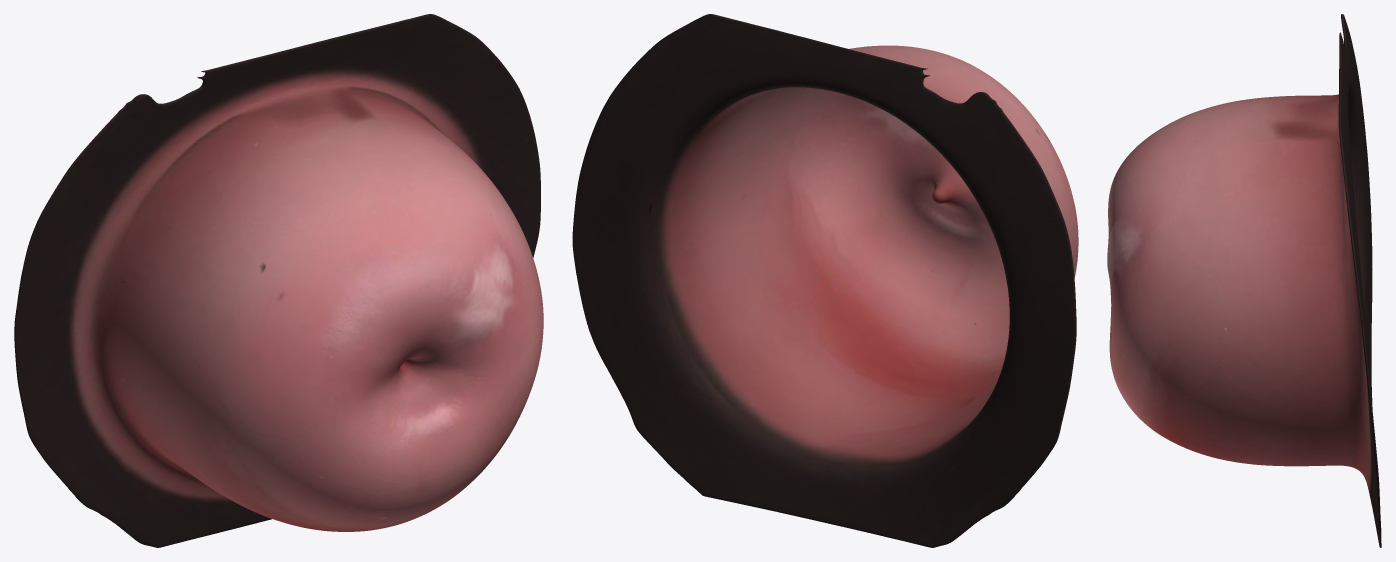
3 renders of one model, left to right at view 1: azimuth 30°, elevation 25°; view 2: azimuth 150°, elevation 25°; view 3: azimuth 270°, elevation 25°, orthographic. The views are drawn at different scales.
Parts seen in each view (by area): view 1: node_0; view 2: node_0; view 3: node_0.
Boxes of the visible parts, x1,y1,x2,y2 form: node_0: [14, 14, 543, 547]; node_0: [572, 14, 1078, 547]; node_0: [1107, 14, 1381, 547].
Bounding box in the file's own units: 1.07 × 0.9438 × 0.5506.
1 material, 1 textured.
